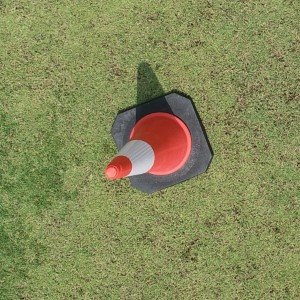traffic cone: (105, 91, 212, 196)
